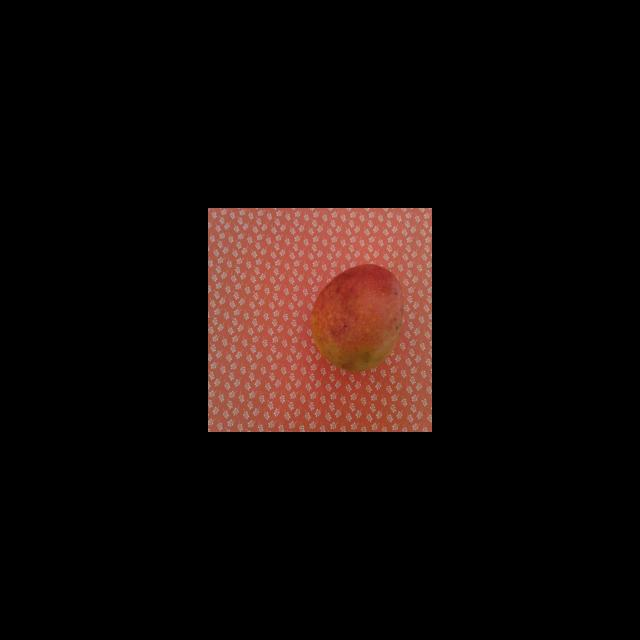Mango: (310, 263, 404, 371)
